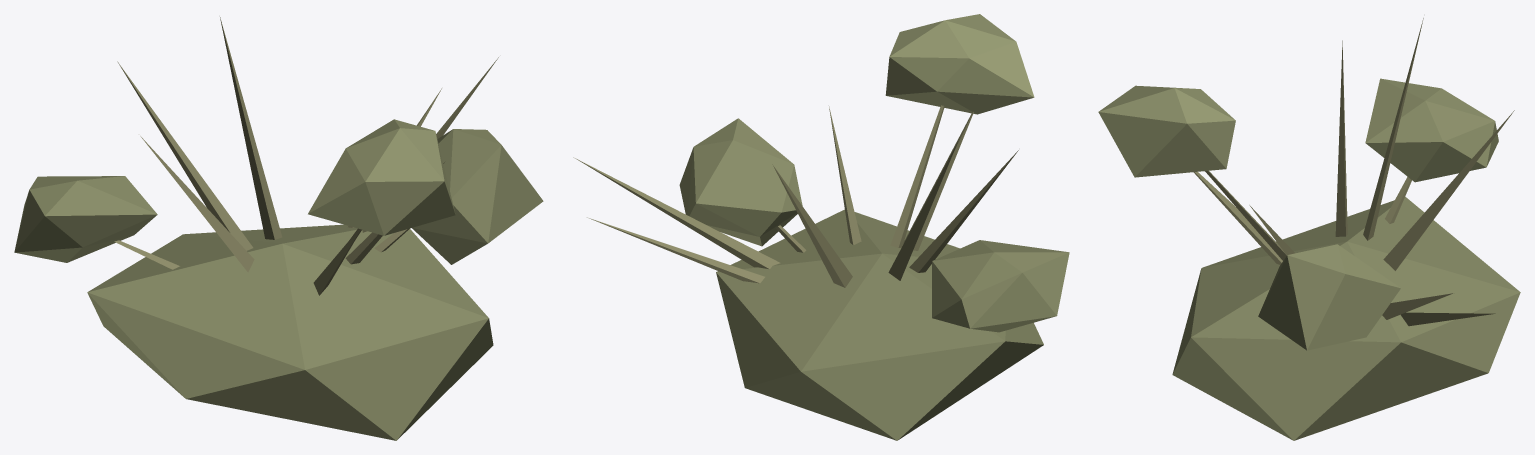
Rendered from scrub_6.glb.
3 views of the same model, side by side, from view 1: azimuth 30°, elevation 25°; view 2: azimuth 150°, elevation 25°; view 3: azimuth 270°, elevation 25° (orthographic). The views are drawn at different scales.
Parts seen in each view (by area): view 1: scrub_6.001; view 2: scrub_6.001; view 3: scrub_6.001.
Boxes of the visible parts, bbox=[...] form: scrub_6.001: bbox=[14, 17, 543, 440]; scrub_6.001: bbox=[573, 14, 1069, 440]; scrub_6.001: bbox=[1098, 18, 1520, 440].
Bounding box in the file's own units: 2.06 × 1.33 × 1.61.
